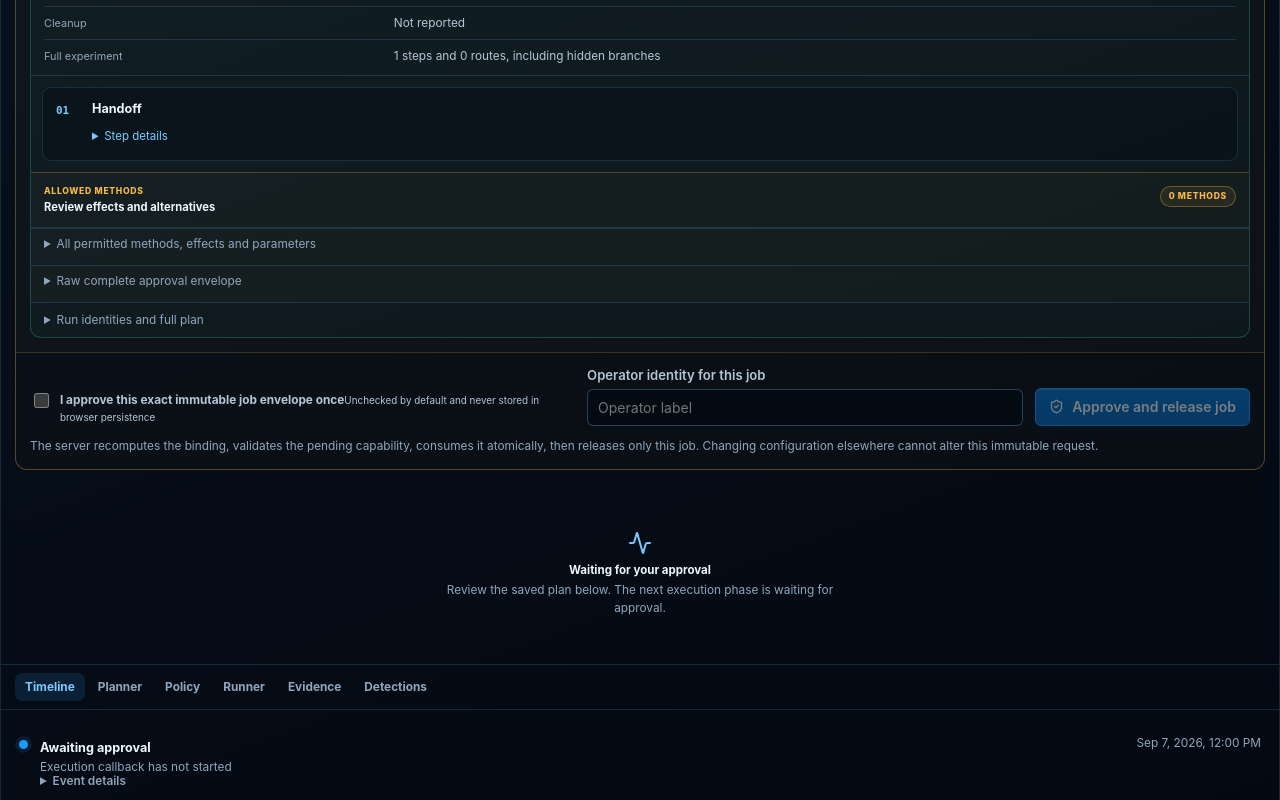
Test: reviews and releases the exact protected phase inline without new intent or navigation
The image size is (1280, 800).
(page scrolled)
expect the button "Approve and release job" is disabled: met, box [1035,388,1250,426]
Click the checkbox labelled "I approve this exact immutable job envelope once" at (42, 401), box [34,393,49,408]
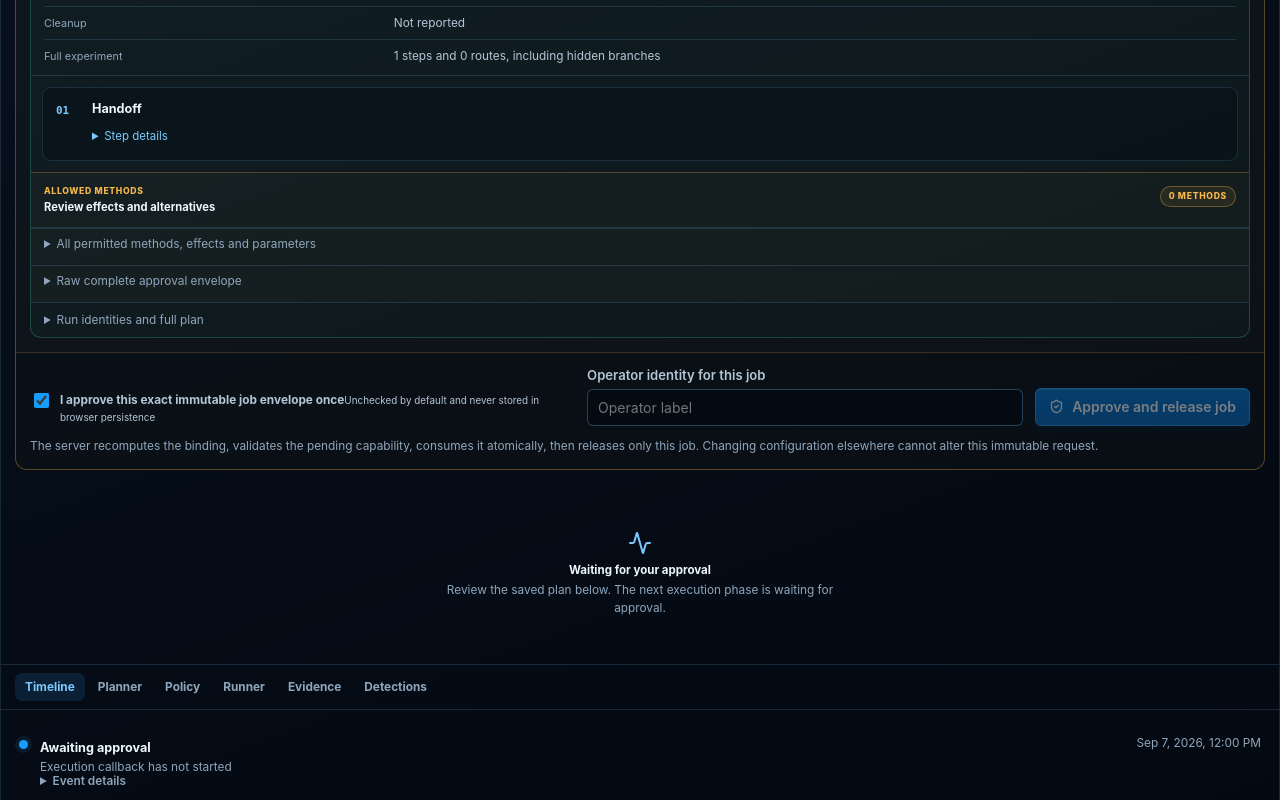
Type "Reviewer" into the field labelled "Operator identity for this job" at (805, 407), box [587,388,1023,426]
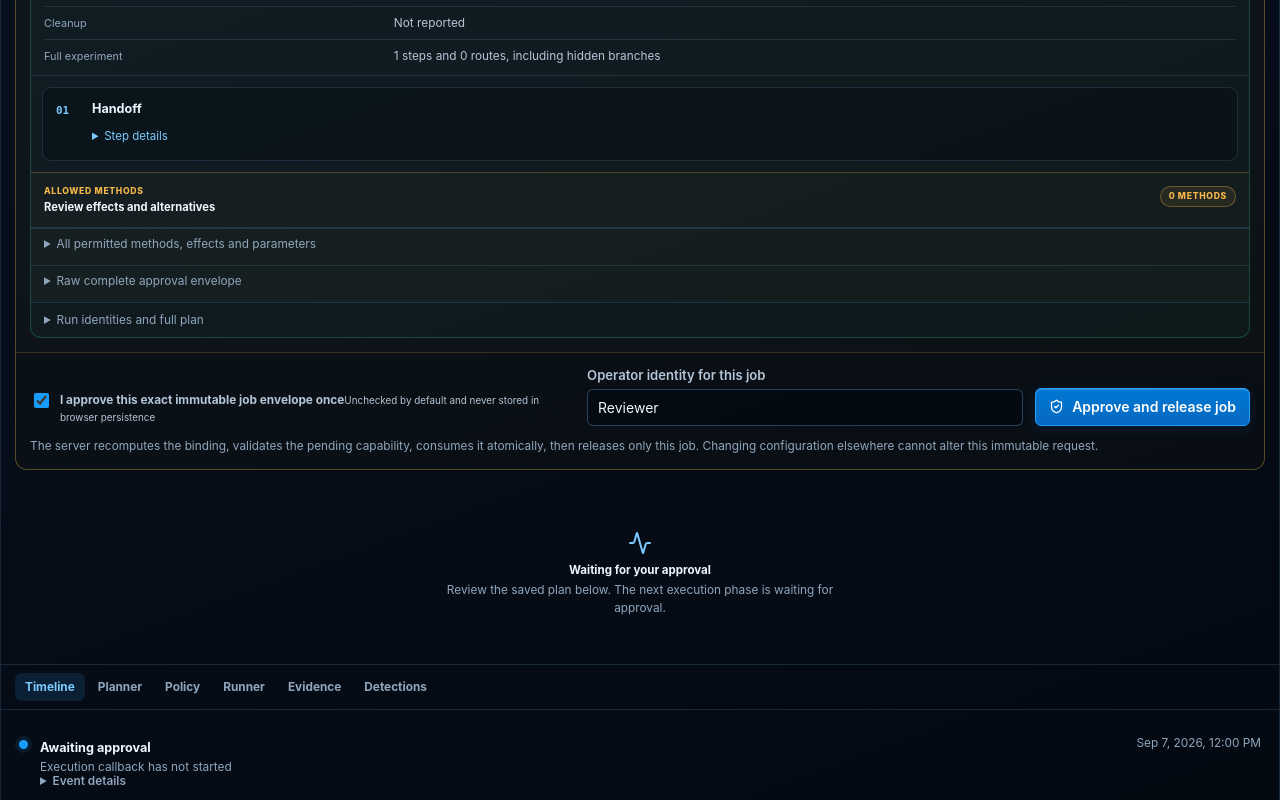
Click the button "Approve and release job" at (1143, 406), box [1035,388,1250,426]
(page scrolled)
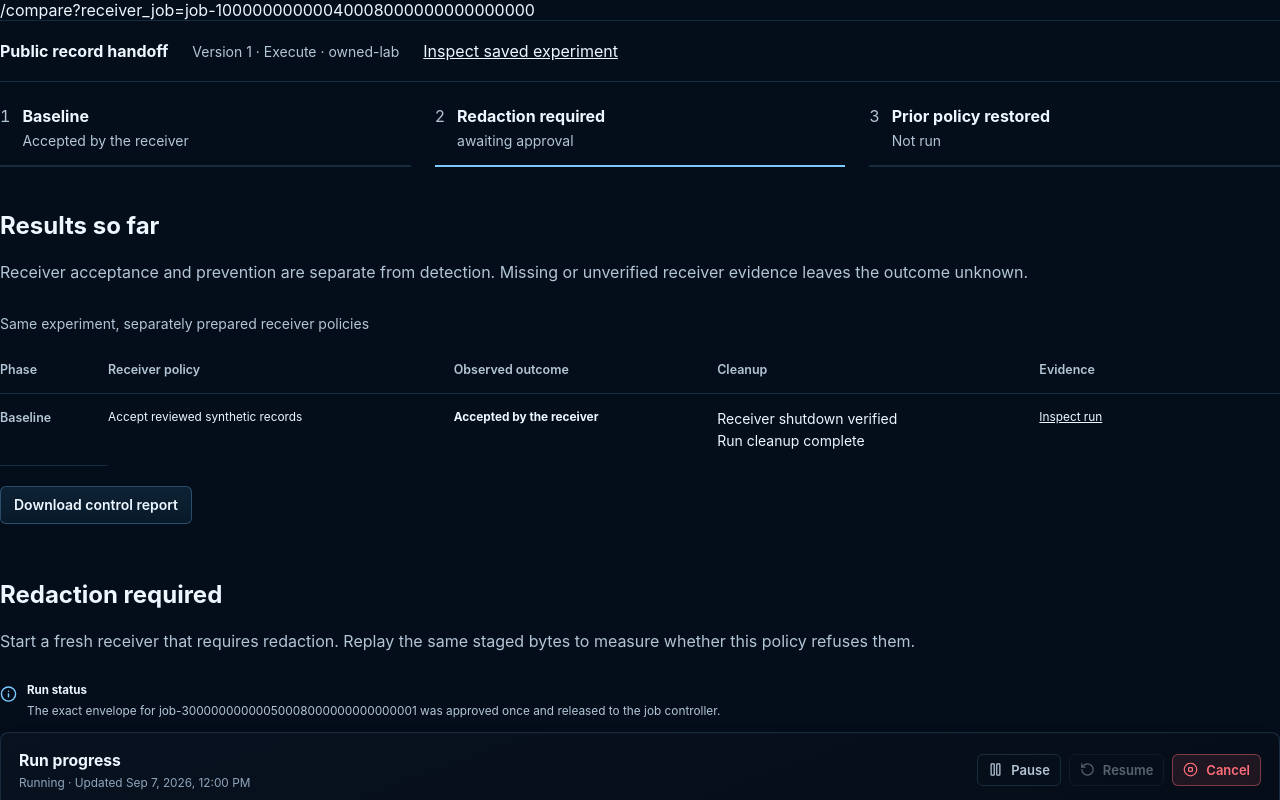
expect the button "Pause" is enabled: met, box [977,754,1061,786]
